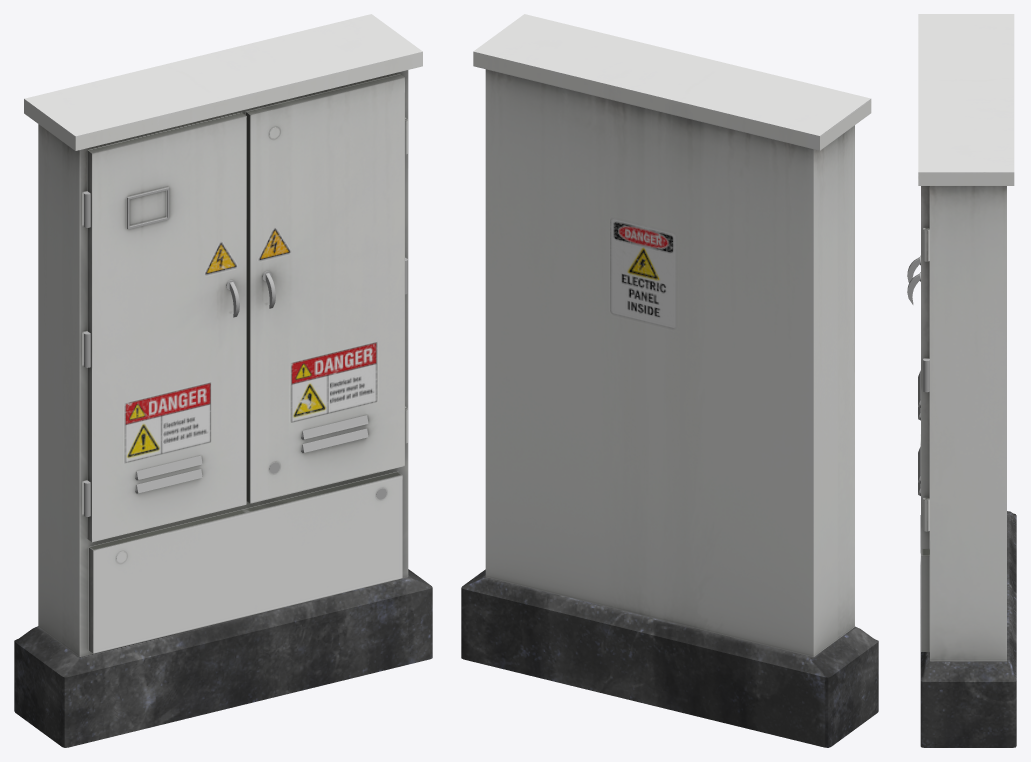
Rendered from electric_box1.glb.
3 renders of one model, left to right at view 1: azimuth 30°, elevation 25°; view 2: azimuth 150°, elevation 25°; view 3: azimuth 270°, elevation 25°, orthographic. The views are drawn at different scales.
Parts seen in each view (by area): view 1: Electricbox003_Material #16_0; view 2: Electricbox003_Material #16_0; view 3: Electricbox003_Material #16_0.
Part boxes in pixels (x1,y1,x2,y2): Electricbox003_Material #16_0: (14,14,432,747); Electricbox003_Material #16_0: (461,14,878,747); Electricbox003_Material #16_0: (907,14,1016,747).
Size of the model in its own units: 0.9526 by 1.5 by 0.2607.
Materials: 1 (1 with a texture image).
